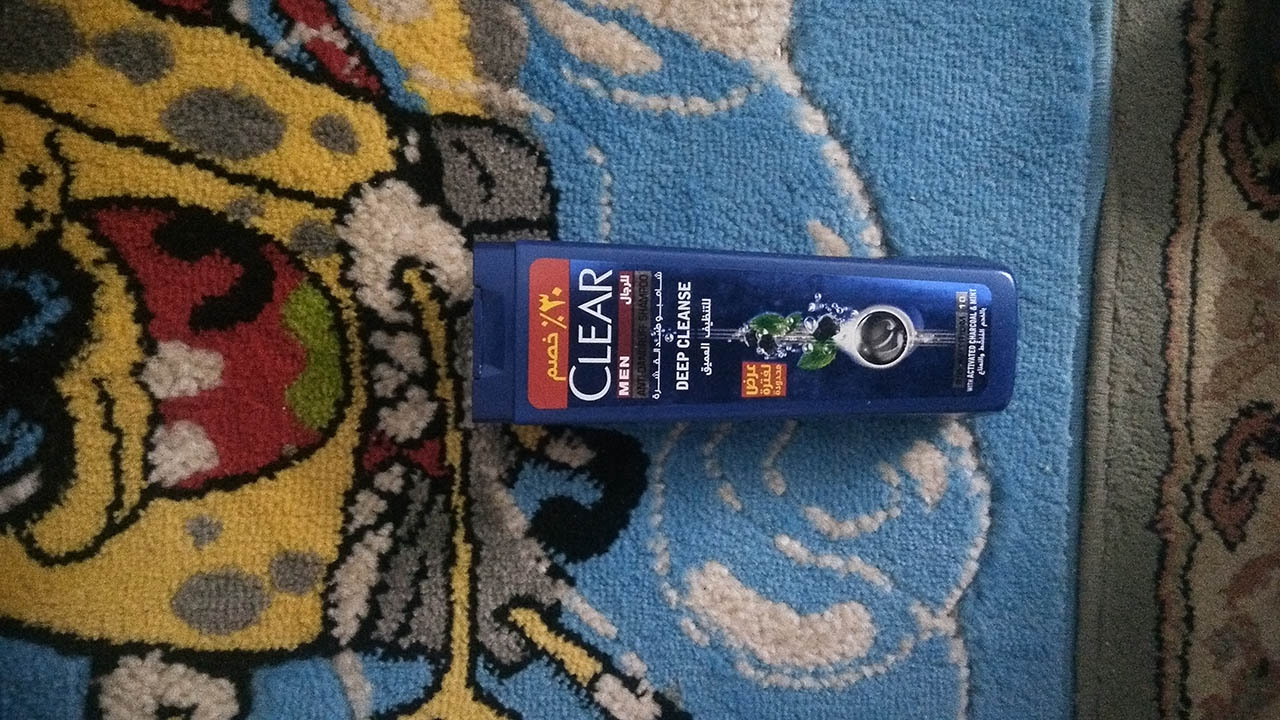Shampoo-Clear 4.7$: (458, 227, 1050, 437)
